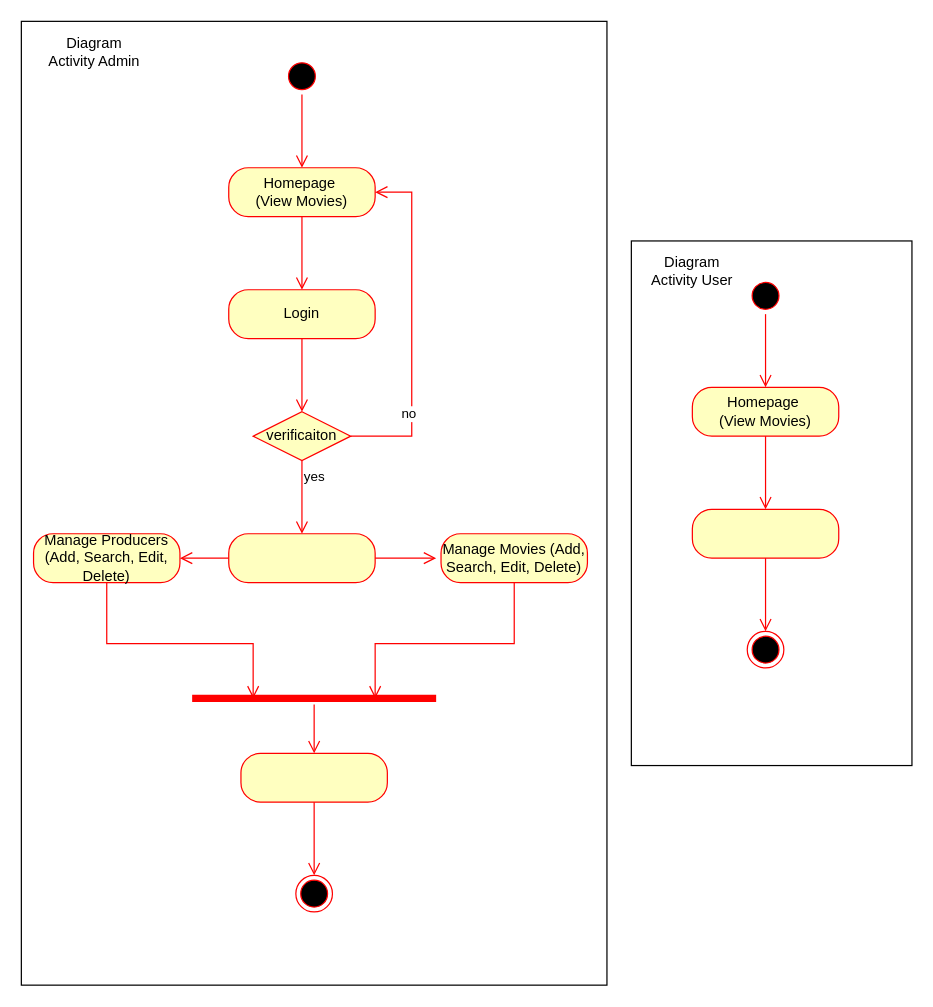
This 933x1007 diagram has some shape labels left out. Here are the shapes that lost their labels. From the top down, the centre of each, then its label:
point 765,533: View Movie & Producer
point 301,558: Dashbord
point 313,777: Log out
